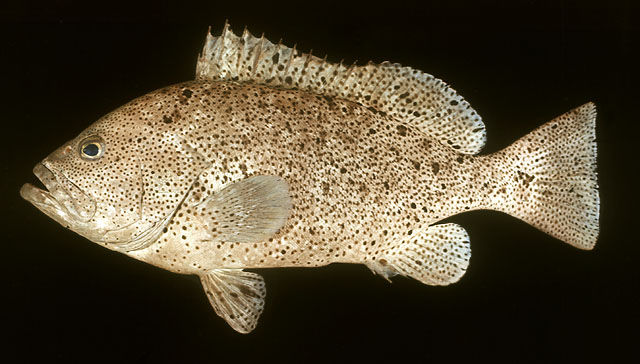fish: (20, 20, 601, 334)
